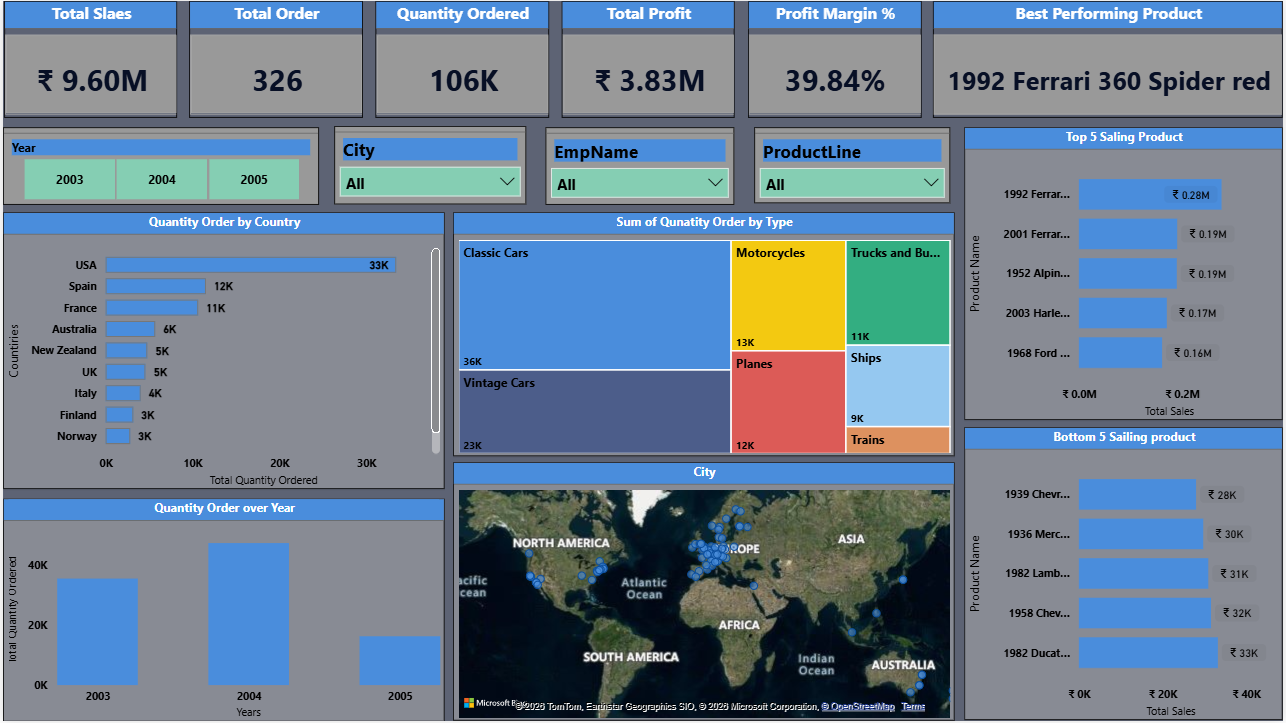

The page's visual inventory and layout, read from the dashboard file:
{"tool":"powerbi","page":{"name":"Main Dashboard","canvas":[1280,720],"ordinal":0},"visuals":[{"type":"cardVisual","title":"Quantity Ordered","fields":{"Data":["Sum(order details.quantityOrdered)"]},"box":[372.2,0,173.6,116.7],"z":0},{"type":"barChart","title":"Top 5 Saling Product","fields":{"Category":["products.productName"],"Y":["Sum(order details.Sales)"]},"box":[960.9,126.4,318.4,293.1],"z":1000},{"type":"barChart","title":"Quantity Order by Country","fields":{"Y":["Sum(order details.quantityOrdered)"],"Category":["customers.country"]},"box":[0,211.5,441.4,277],"z":2000},{"type":"slicer","fields":{"Values":["orders.year"]},"box":[0,125.8,316.1,77.2],"z":3000},{"type":"cardVisual","title":"Total Profit","fields":{"Data":["Sum(order details.profit)"]},"box":[558.3,0,173,116.7],"z":4000},{"type":"cardVisual","title":"Total Slaes","fields":{"Data":["Sum(order details.Sales)"]},"box":[0,1.2,172.5,116.2],"z":5000},{"type":"treemap","title":"Sum of Qunatity Order by Type","fields":{"Group":["products.productLine"],"Values":["Sum(order details.quantityOrdered)"]},"box":[450,211.4,501.4,244.3],"z":6000},{"type":"cardVisual","title":"Profit Margin %","fields":{"Data":["order details.Profit Margin %"]},"box":[744.4,0,173.6,116.7],"z":7000},{"type":"slicer","fields":{"Values":["customers.city"]},"box":[331.8,124.6,191.8,78.4],"z":8000},{"type":"slicer","fields":{"Values":["customers.FullName"]},"box":[543.1,126.1,188.9,77.8],"z":9000},{"type":"slicer","fields":{"Values":["products.productLine"]},"box":[751.4,126.1,195.8,76.4],"z":10000},{"type":"clusteredColumnChart","title":"Quantity Order over Year","fields":{"Category":["orders.year"],"Y":["Sum(order details.quantityOrdered)"]},"box":[0,497.1,441.6,223.2],"z":11000},{"type":"barChart","title":"Bottom 5 Sailing product","fields":{"Category":["products.productName"],"Y":["Sum(order details.Sales)"]},"box":[960.9,426.4,318.4,293.1],"z":12000},{"type":"cardVisual","title":"Best Performing Product","fields":{"Data":["order details.Most Ordered Product"]},"box":[930.2,0,349.9,117],"z":13000},{"type":"cardVisual","title":"Total Order","fields":{"Data":["order details.Total Orders"]},"box":[186.1,0,173.6,116.7],"z":14000},{"type":"map","title":"City","fields":{"Category":["customers.city"]},"box":[450,461.4,501.4,258.6],"z":15000}]}

Visuals, with their boxes in screenshot pixels (x1, y1, x2, y2), scaled from the page's 1280x720 canvas onto the 1286x723 screenshot:
"Quantity Ordered" cardVisual: crop(374, 0, 548, 117)
"Top 5 Saling Product" barChart: crop(965, 127, 1285, 421)
"Quantity Order by Country" barChart: crop(0, 212, 443, 491)
slicer - orders.year: crop(0, 126, 318, 204)
"Total Profit" cardVisual: crop(561, 0, 735, 117)
"Total Slaes" cardVisual: crop(0, 1, 173, 118)
"Sum of Qunatity Order by Type" treemap: crop(452, 212, 956, 458)
"Profit Margin %" cardVisual: crop(748, 0, 922, 117)
slicer - customers.city: crop(333, 125, 526, 204)
slicer - customers.FullName: crop(546, 127, 735, 205)
slicer - products.productLine: crop(755, 127, 952, 203)
"Quantity Order over Year" clusteredColumnChart: crop(0, 499, 444, 722)
"Bottom 5 Sailing product" barChart: crop(965, 428, 1285, 722)
"Best Performing Product" cardVisual: crop(935, 0, 1285, 117)
"Total Order" cardVisual: crop(187, 0, 361, 117)
"City" map: crop(452, 463, 956, 722)
